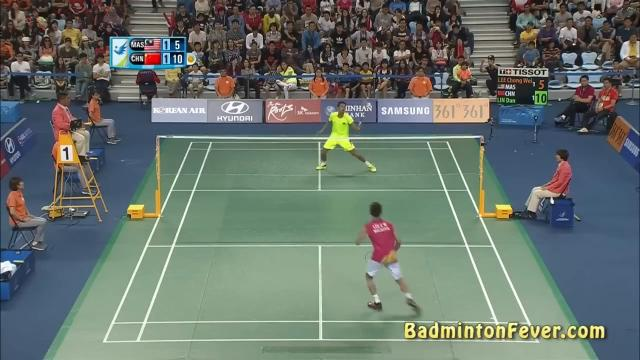Shuttlecock: (366, 102, 376, 106)
